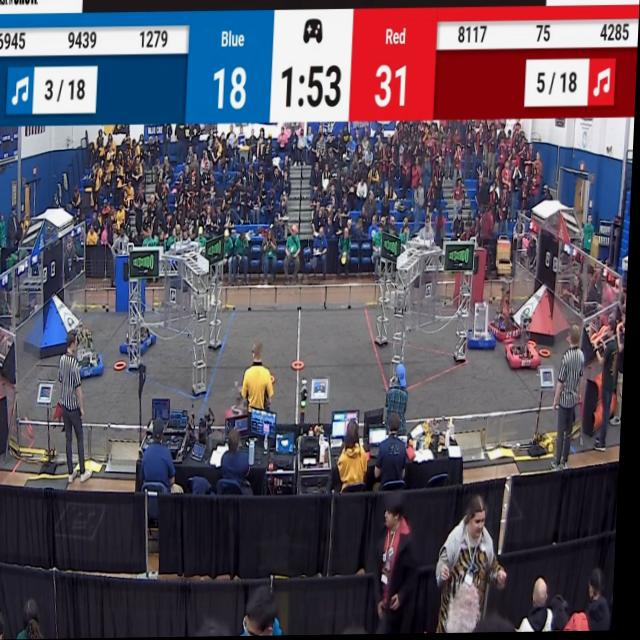Robot: (504, 296, 549, 375), (73, 317, 111, 381), (491, 272, 523, 344), (122, 301, 160, 360), (469, 294, 501, 357), (227, 377, 257, 427)
